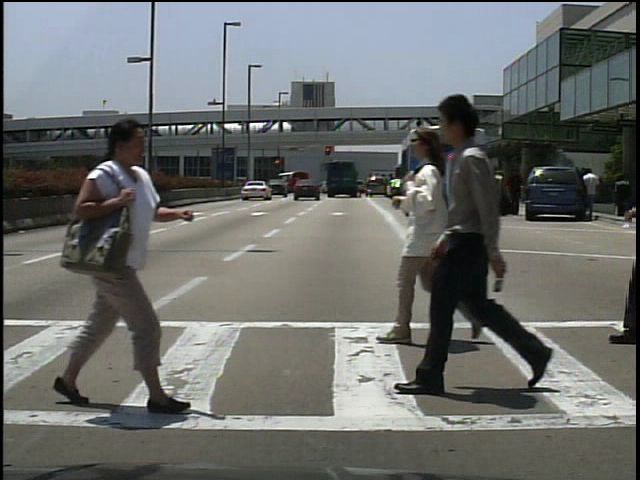person: (412, 83, 560, 401), (58, 121, 190, 417), (376, 117, 493, 355), (485, 162, 503, 215), (585, 167, 602, 218), (508, 166, 525, 216)
